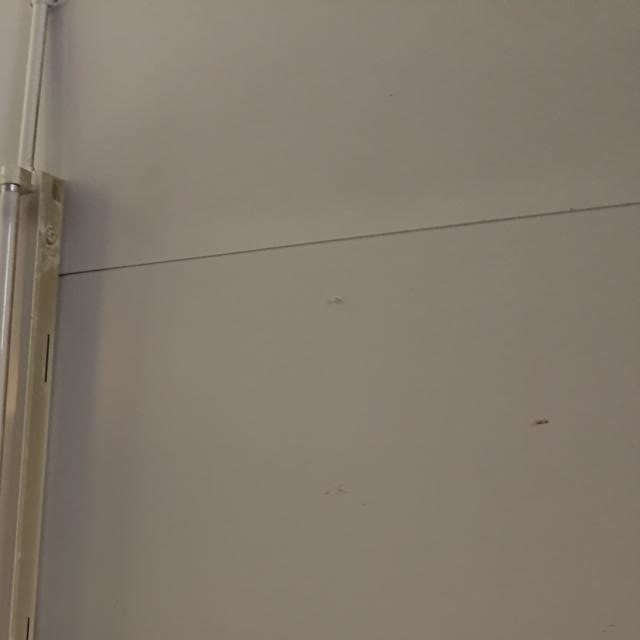fluorescent tube: (0, 156, 88, 639)
